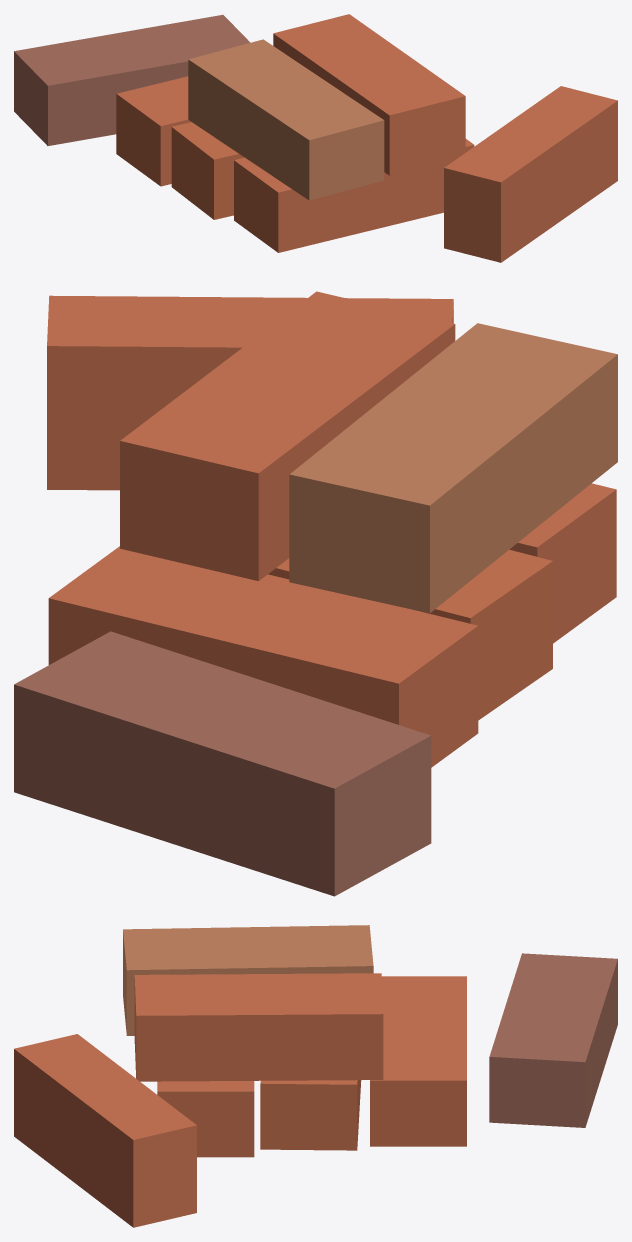
The model's file is Brick_Pile_m_04.fbx.
The picture shows the model from 3 angles, top to bottom: view 1: azimuth 30°, elevation 25°; view 2: azimuth 150°, elevation 25°; view 3: azimuth 270°, elevation 25°; orthographic projection. The views are drawn at different scales.
Visible parts, largest first — view 1: Brick_Pile_m_04; view 2: Brick_Pile_m_04; view 3: Brick_Pile_m_04.
Boxes of the visible parts, bbox=[...] form: Brick_Pile_m_04: bbox=[14, 14, 617, 262]; Brick_Pile_m_04: bbox=[14, 291, 617, 896]; Brick_Pile_m_04: bbox=[14, 925, 617, 1227].
Bounding box in the file's own units: 50.98 × 15 × 62.37.
